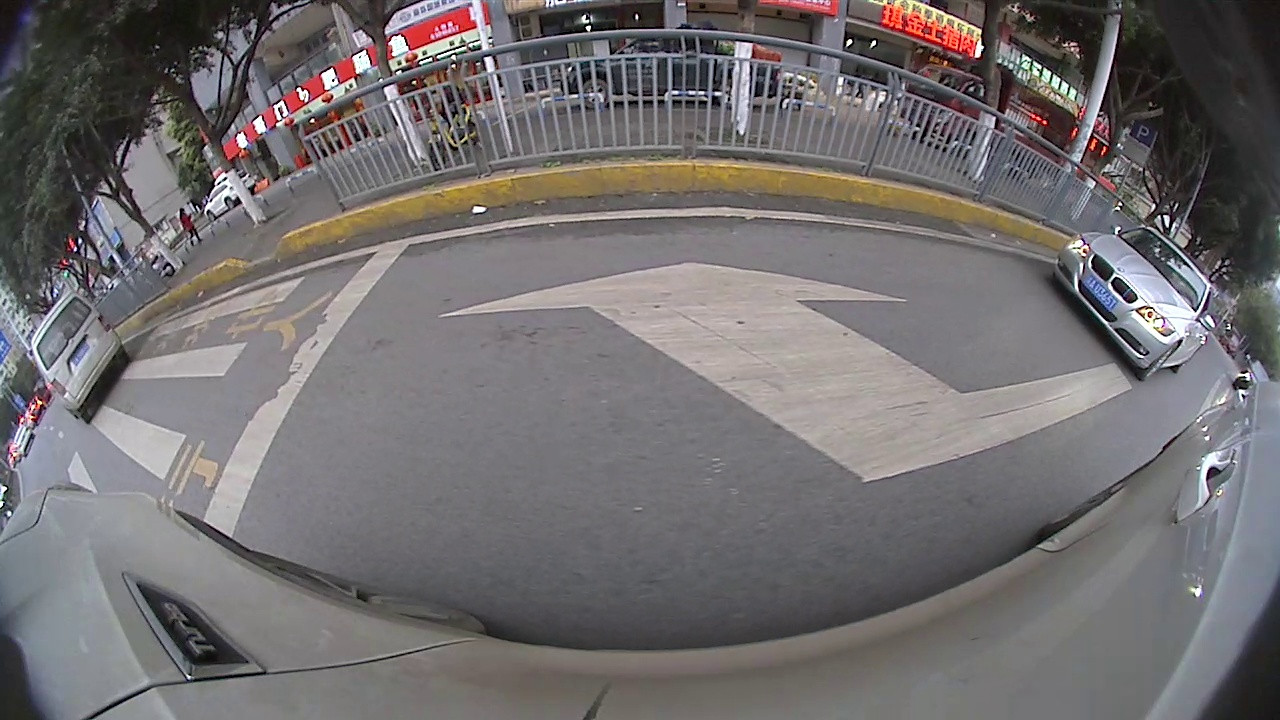car: (1048, 215, 1223, 385), (555, 27, 797, 113), (25, 287, 131, 426)
front: (581, 80, 613, 107)
rider: (423, 93, 487, 167)
truck: (892, 56, 1080, 172)
